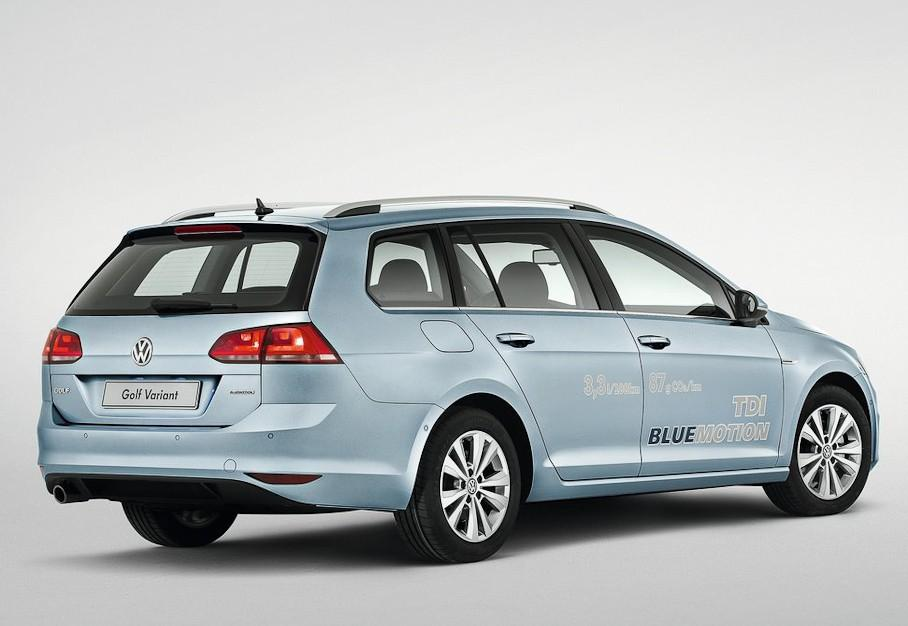Wagon: (35, 194, 879, 563)
